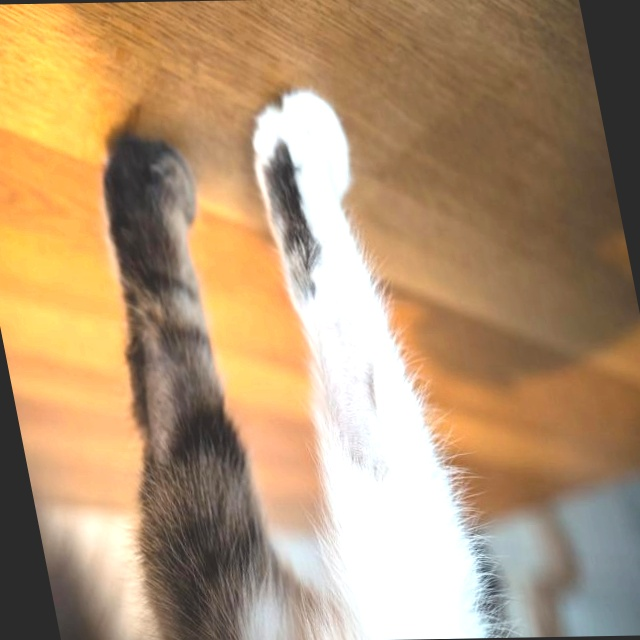hairloss: (291, 281, 401, 490)
